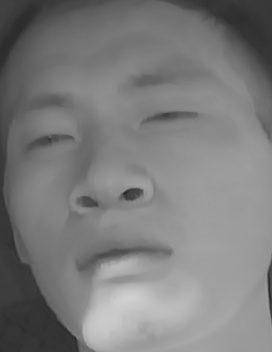eye: (131, 98, 203, 138), (22, 125, 78, 160)
mouth: (65, 233, 181, 282)
